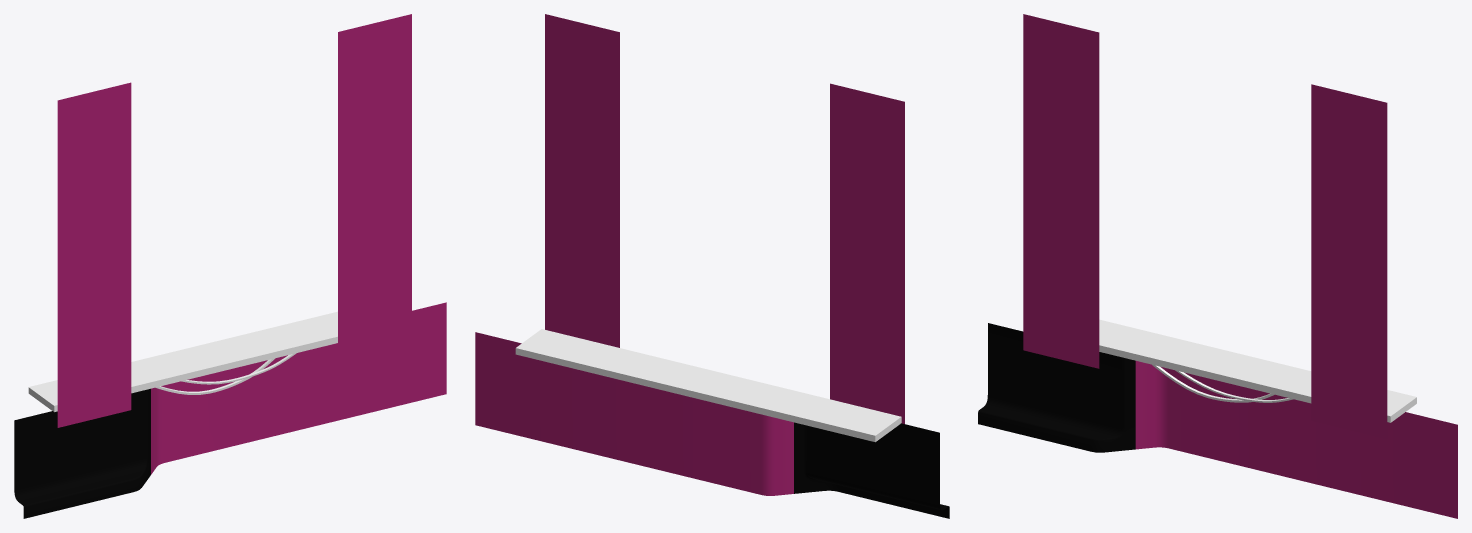
File: DecorMachine_Cake_Wall.FBX
3 views of the same model, side by side, from view 1: azimuth 30°, elevation 25°; view 2: azimuth 150°, elevation 25°; view 3: azimuth 330°, elevation 25° (orthographic). The views are drawn at different scales.
Visible parts, largest first — view 1: DecorMachine_Cake_Wall; view 2: DecorMachine_Cake_Wall; view 3: DecorMachine_Cake_Wall.
Boxes of the visible parts, bbox=[...] form: DecorMachine_Cake_Wall: bbox=[14, 14, 446, 518]; DecorMachine_Cake_Wall: bbox=[475, 14, 949, 518]; DecorMachine_Cake_Wall: bbox=[978, 14, 1457, 518].
Bounding box in the file's own units: 66142 × 57549 × 8779.
